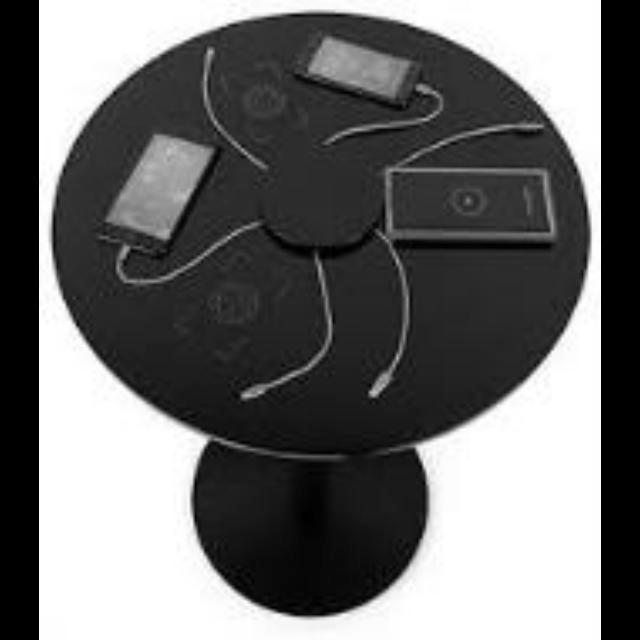fake: (362, 136, 572, 262), (81, 110, 231, 282), (280, 17, 432, 115)
